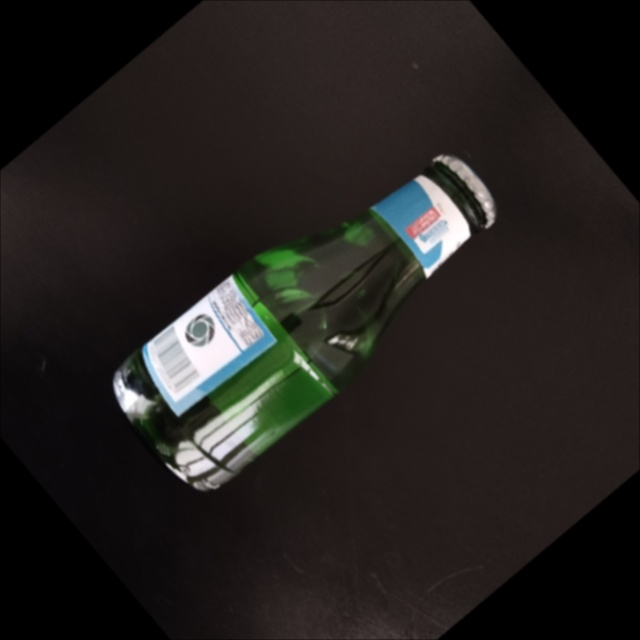kizilay_maden_suyu: (112, 157, 494, 489)
